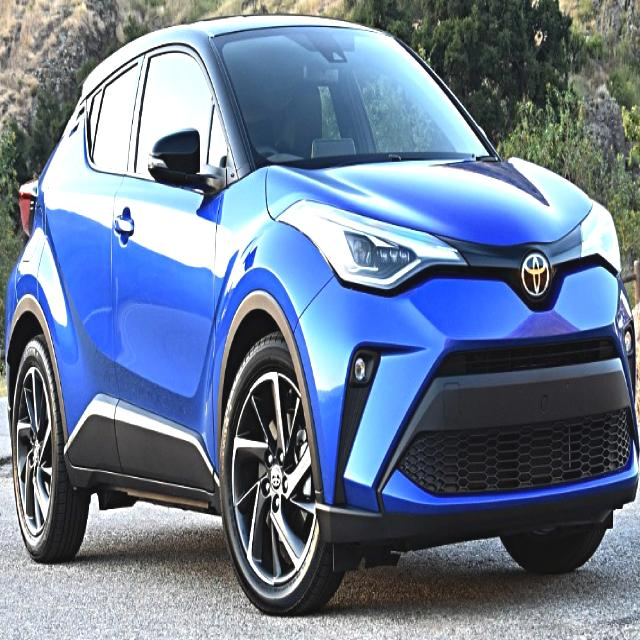blue: (6, 14, 640, 613)
